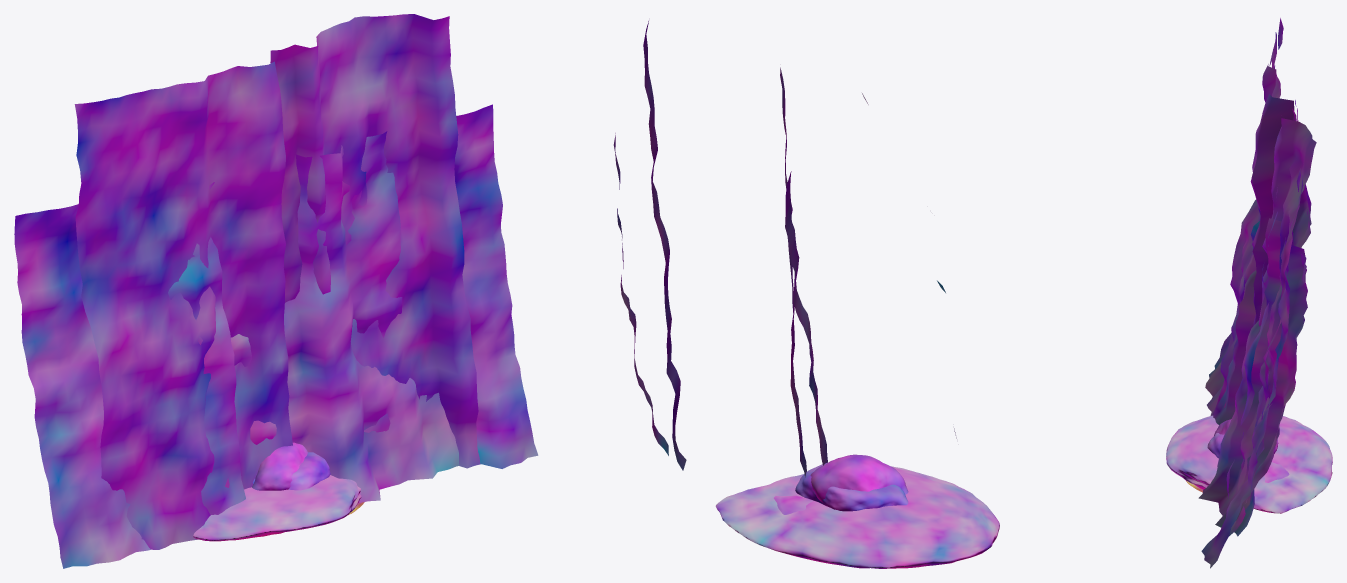
Rendered from spring-rocks.glb.
3 views of the same model, side by side, from view 1: azimuth 30°, elevation 25°; view 2: azimuth 150°, elevation 25°; view 3: azimuth 270°, elevation 25° (orthographic). The views are drawn at different scales.
Visible parts, largest first — view 1: cliff_1, cliff_0, slab_0, boulder_4, boulder_2; view 2: slab_0, cliff_1, boulder_4, cliff_0, boulder_2; view 3: cliff_0, cliff_1, slab_0, slab_1, boulder_2.
Boxes of the visible parts, bbox=[...] form: cliff_1: bbox=[74, 14, 480, 549]; cliff_0: bbox=[14, 104, 538, 568]; slab_0: bbox=[193, 475, 361, 541]; boulder_4: bbox=[252, 442, 307, 490]; boulder_2: bbox=[253, 452, 330, 490]; slab_0: bbox=[715, 466, 999, 568]; cliff_1: bbox=[643, 21, 868, 477]; boulder_4: bbox=[810, 454, 908, 502]; cliff_0: bbox=[613, 133, 956, 465]; boulder_2: bbox=[795, 462, 908, 511]; cliff_0: bbox=[1198, 100, 1311, 568]; cliff_1: bbox=[1207, 18, 1316, 536]; slab_0: bbox=[1166, 415, 1332, 513]; slab_1: bbox=[1186, 462, 1289, 492]; boulder_2: bbox=[1207, 433, 1278, 458].
Bounding box in the file's own units: 14 × 12 × 4.85.
